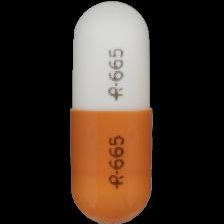55154-2068: (0, 0, 224, 224)
